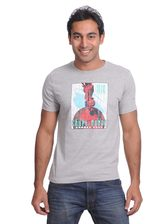clothoes: (39, 60, 138, 183)
